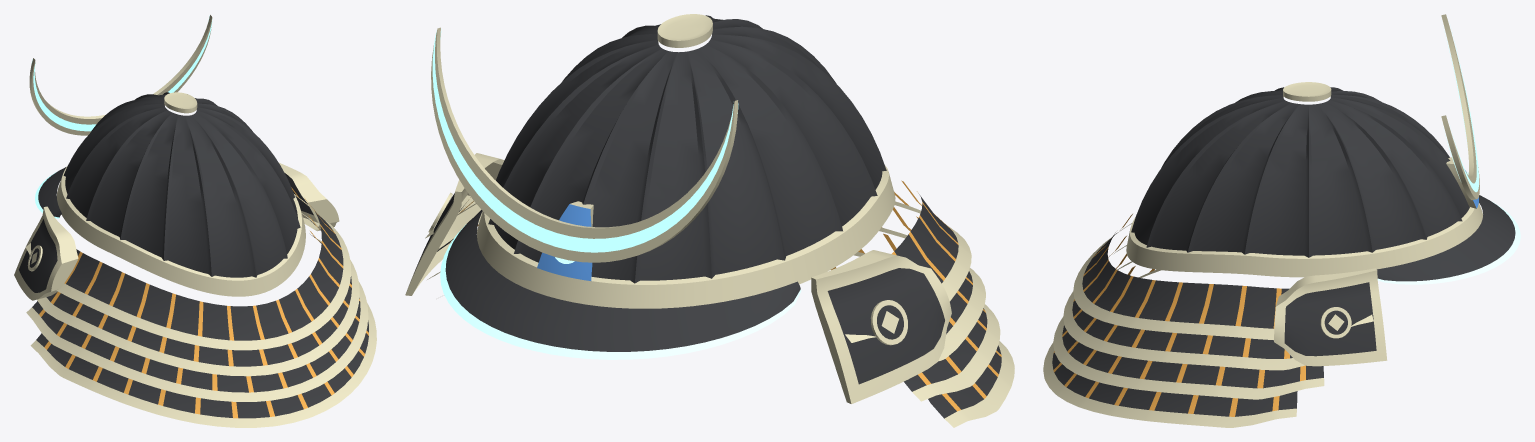
Rendered from ronin_kabuto_f.glb.
3 renders of one model, left to right at view 1: azimuth 30°, elevation 25°; view 2: azimuth 150°, elevation 25°; view 3: azimuth 270°, elevation 25°, orthographic. The views are drawn at different scales.
Visible parts, largest first — view 1: ronin_kabuto_shikoro, ronin_kabuto_bowl, ronin_kabuto_band, ronin_kabuto_wings, ronin_kabuto_crest, ronin_kabuto_peak; view 2: ronin_kabuto_bowl, ronin_kabuto_peak, ronin_kabuto_wings, ronin_kabuto_crest, ronin_kabuto_shikoro, ronin_kabuto_band; view 3: ronin_kabuto_bowl, ronin_kabuto_shikoro, ronin_kabuto_wings, ronin_kabuto_band, ronin_kabuto_peak, ronin_kabuto_crest.
Boxes of the visible parts, box(x1,y1,x2,y2) form: ronin_kabuto_shikoro: box(25, 187, 376, 427); ronin_kabuto_bowl: box(63, 92, 300, 277); ronin_kabuto_band: box(56, 166, 305, 296); ronin_kabuto_wings: box(14, 163, 339, 300); ronin_kabuto_crest: box(29, 15, 212, 135); ronin_kabuto_peak: box(35, 167, 66, 218); ronin_kabuto_bowl: box(488, 14, 886, 283); ronin_kabuto_peak: box(440, 210, 801, 359); ronin_kabuto_wings: box(405, 153, 951, 404); ronin_kabuto_crest: box(431, 27, 738, 280); ronin_kabuto_shikoro: box(425, 180, 1014, 427); ronin_kabuto_band: box(477, 165, 895, 308); ronin_kabuto_bowl: box(1131, 82, 1469, 257); ronin_kabuto_shikoro: box(1043, 214, 1373, 427); ronin_kabuto_wings: box(1274, 268, 1387, 366); ronin_kabuto_band: box(1126, 203, 1482, 277); ronin_kabuto_peak: box(1377, 195, 1520, 284); ronin_kabuto_crest: box(1441, 14, 1479, 208).
Size of the model in its own units: 0.305 by 0.2451 by 0.3475.
